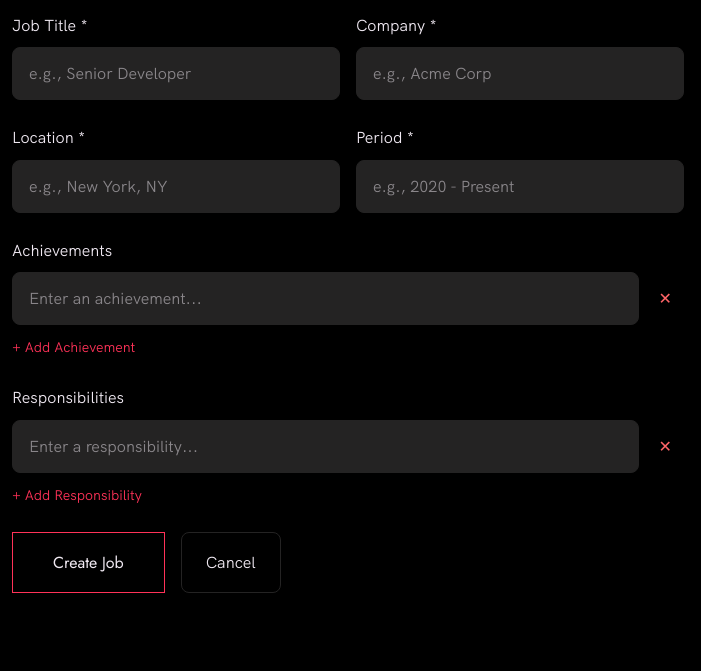
Scenario: JobForm Component › Create Mode › allows removing achievements by clicking X button
Click the button "+ Add Achievement". click: (74, 347)
box: [12, 337, 135, 357]
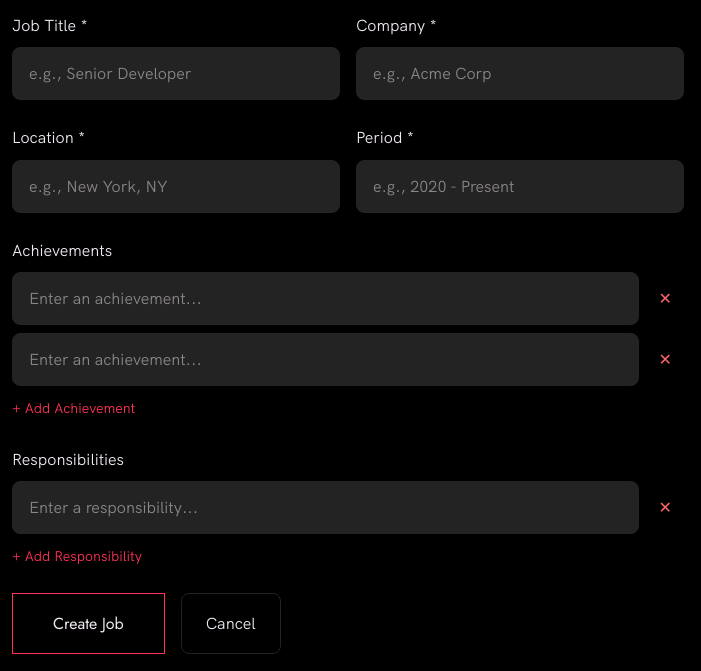
Result: the number of fields with placeholder "Enter an achievement..." is 2 at [12, 272, 639, 325]; [12, 333, 639, 386]
Click the 1st button "✕". click: (665, 298)
box: [647, 272, 684, 325]
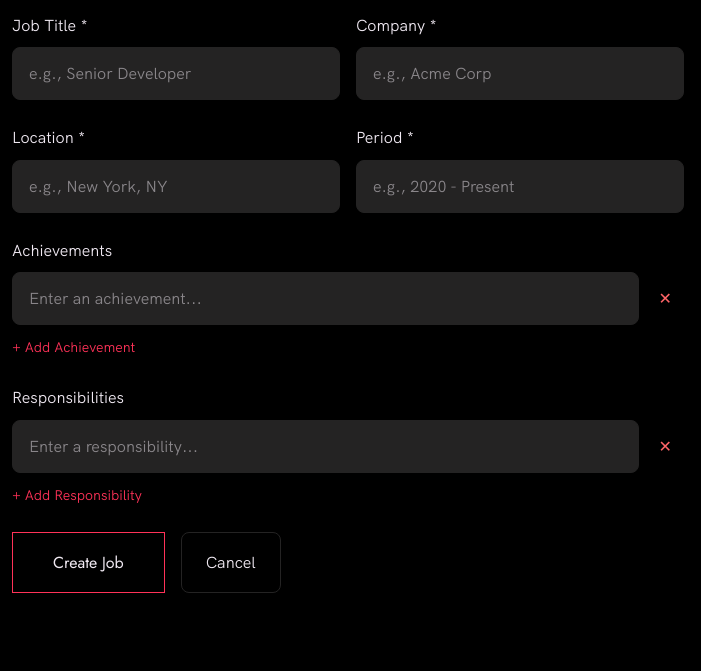
Result: the number of fields with placeholder "Enter an achievement..." is 1 at [12, 272, 639, 325]
